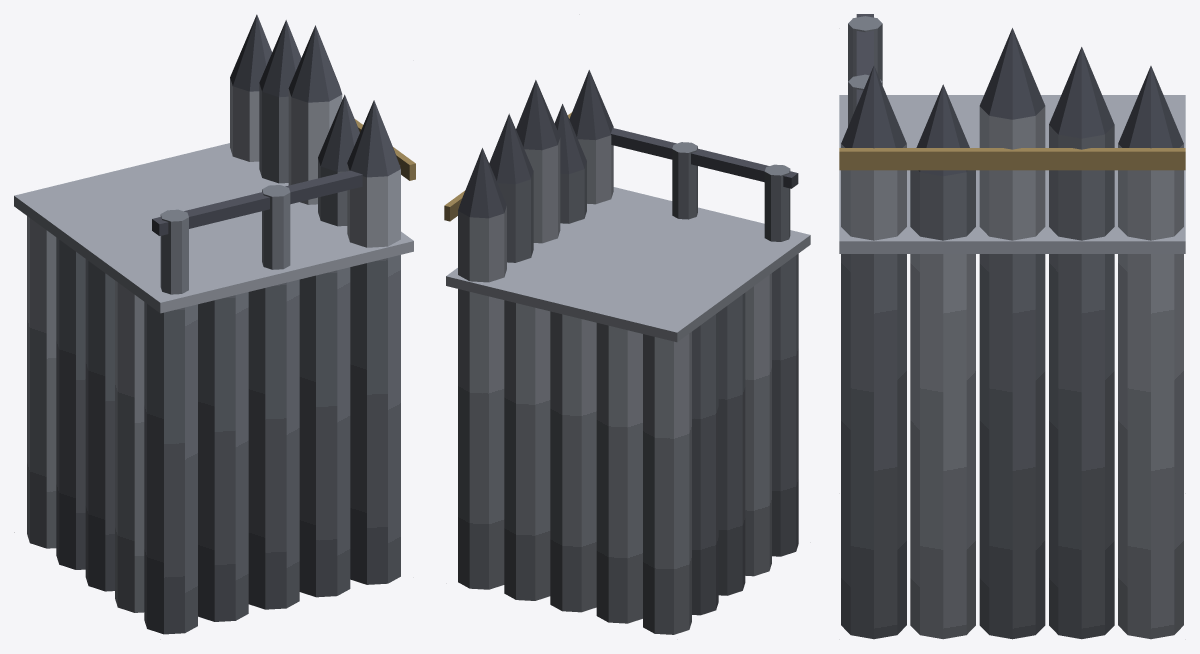
Rendered from perimeter_wall_metal_f9.glb.
3 views of the same model, side by side, from view 1: azimuth 30°, elevation 25°; view 2: azimuth 150°, elevation 25°; view 3: azimuth 270°, elevation 25° (orthographic). The views are drawn at different scales.
Size of the model in its own units: 2.01 by 3.9 by 2.
1 material, 1 textured.
